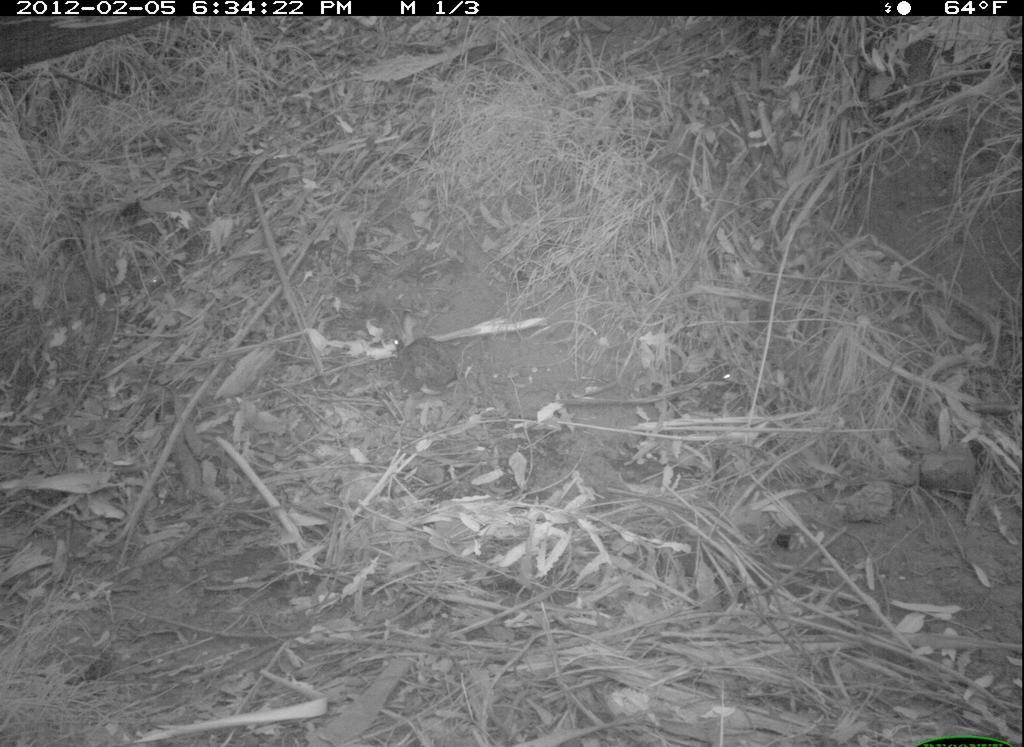rabbit: (391, 308, 479, 406)
